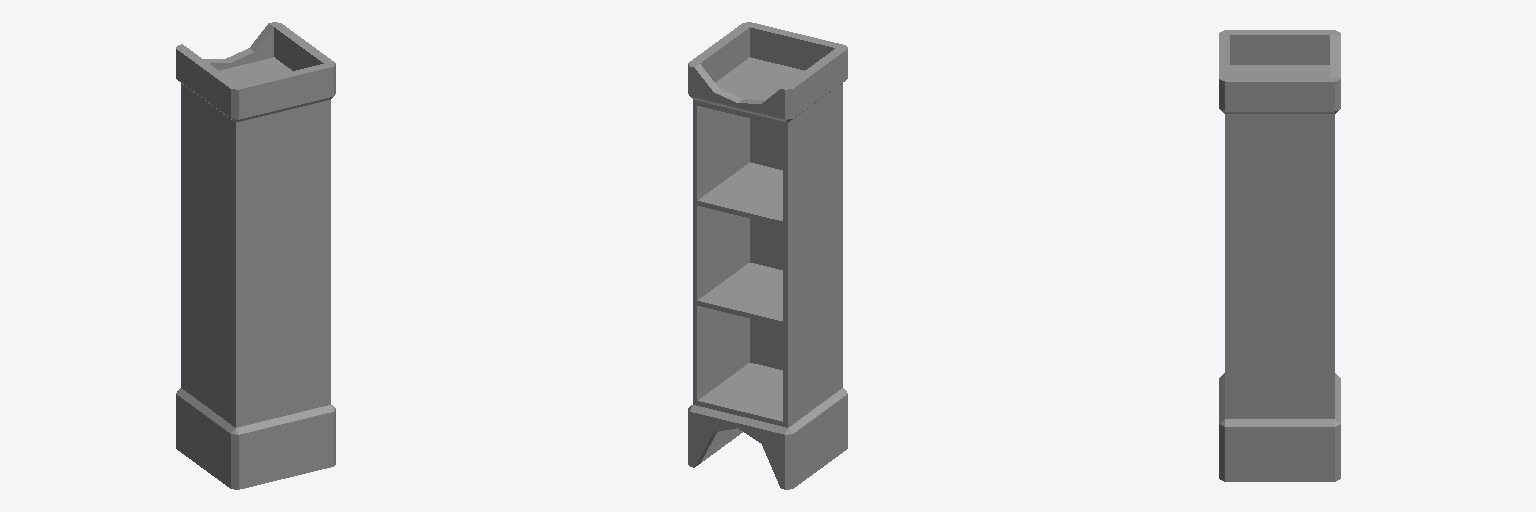
Rendered from qubodup-standing-bookcase-CC0.obj.
The picture shows the model from 3 angles: view 1: azimuth 30°, elevation 25°; view 2: azimuth 150°, elevation 25°; view 3: azimuth 270°, elevation 25°; orthographic projection.
Parts seen in each view (by area): view 1: Cube; view 2: Cube; view 3: Cube.
Part boxes in pixels (x1,y1,x2,y2): Cube: (176,22,335,489); Cube: (688,22,847,489); Cube: (1219,30,1340,481).
Size of the model in its own units: 0.44 by 1.6 by 0.44.